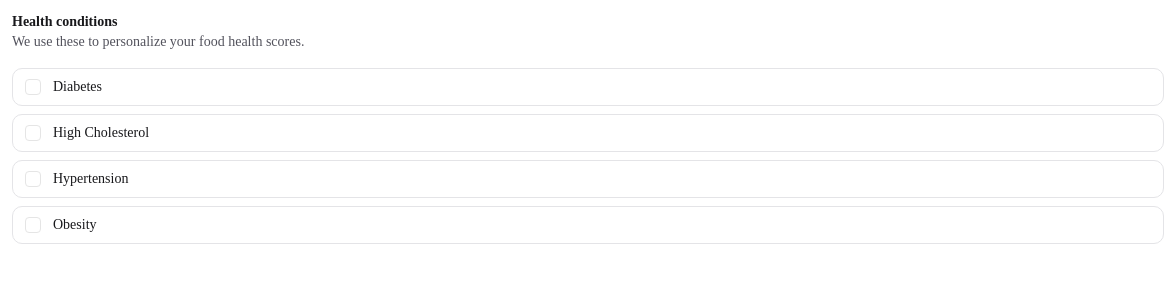
ConditionPicker › shows an error message when updateProfile rejects
The width and height of the screenshot is (1164, 288).
Click the checkbox named "obesity".
click(33, 225)  # box x1=25 y1=217 x2=41 y2=233
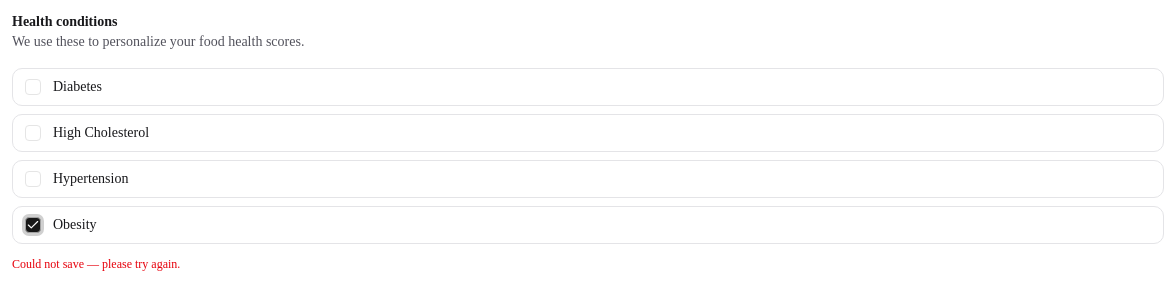
Result: the element with test id "condition-picker-status" shows "Could not save" at x1=12 y1=257 x2=180 y2=271
